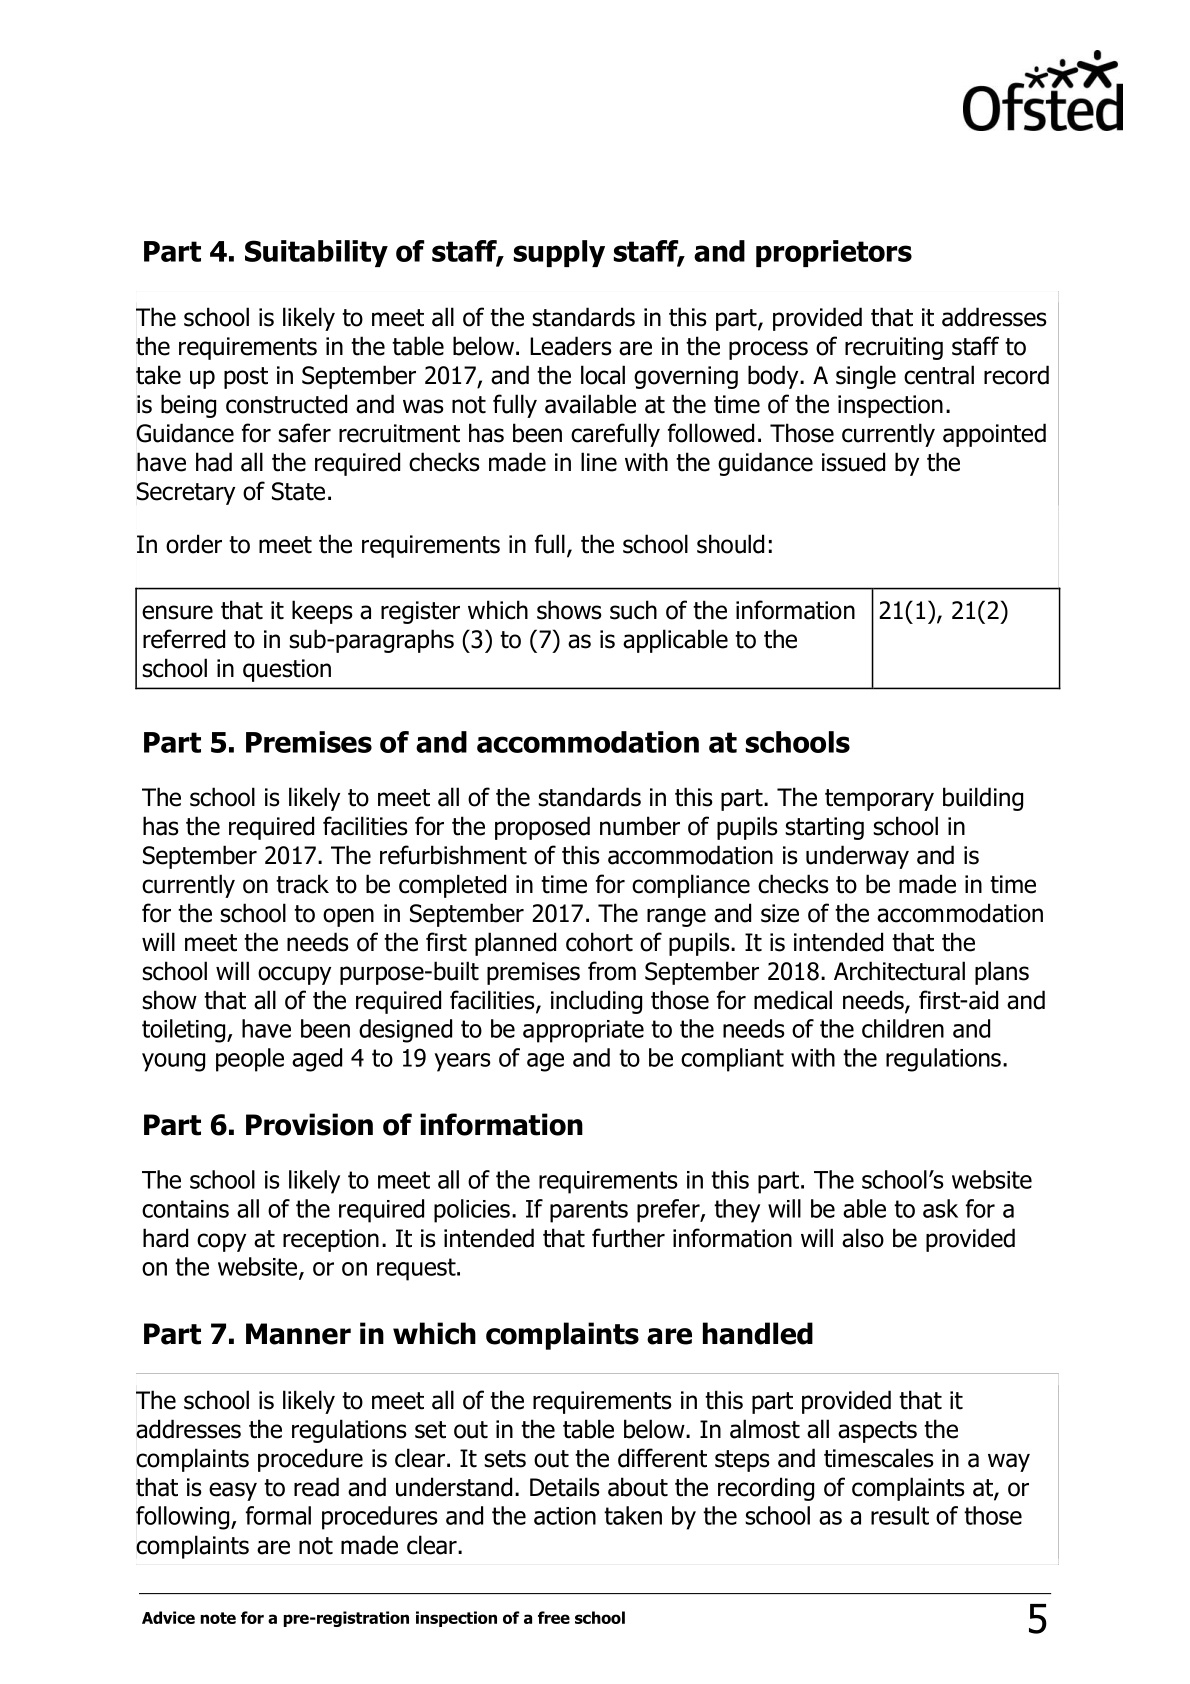full_lined: (135, 586, 1062, 691)
